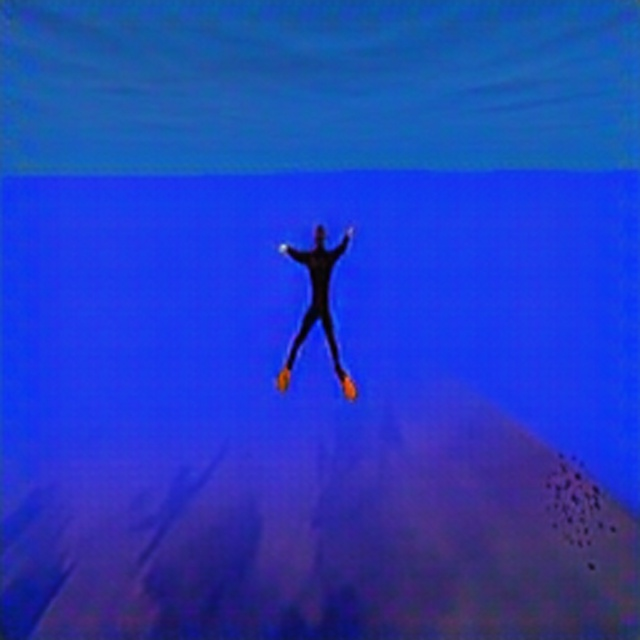diver: (273, 219, 359, 400)
